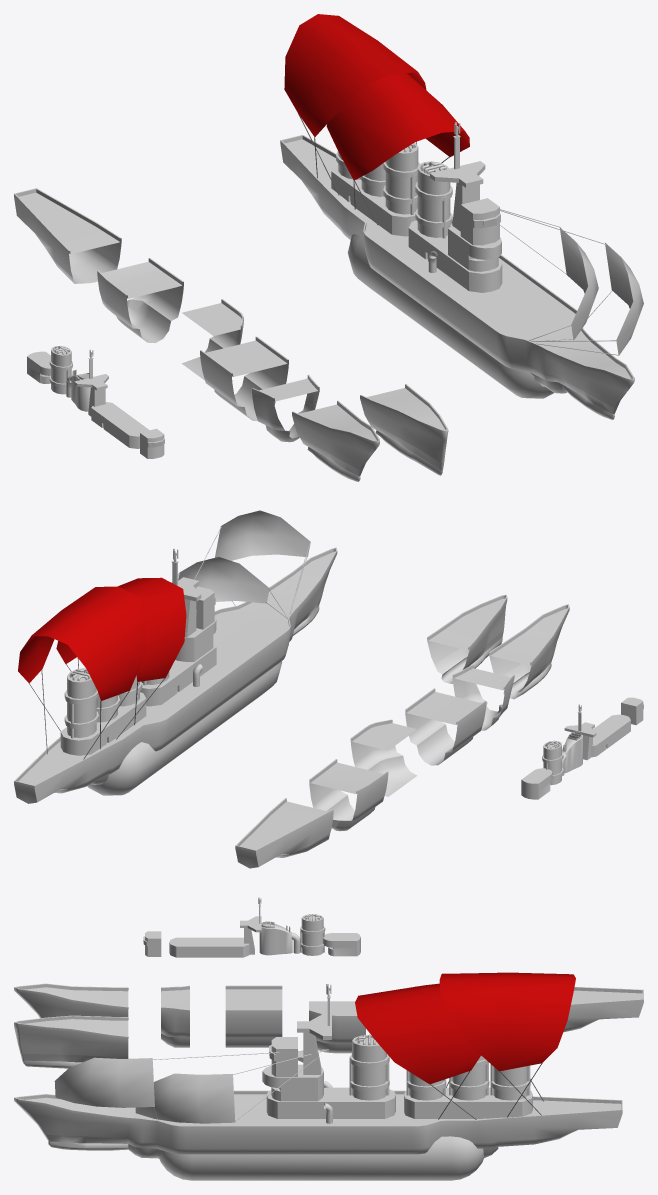
The model's file is navy_modular_ships.FBX.
3 renders of one model, top to bottom at view 1: azimuth 30°, elevation 25°; view 2: azimuth 150°, elevation 25°; view 3: azimuth 270°, elevation 25°, orthographic. The views are drawn at different scales.
Parts seen in each view (by area): view 1: navy_cruzer_1, Navy_crusier, navy_housing_1 (×2), navy_stern_1, navy_hull_stern_1, navy_bow_2, navy_bow_1, navy_hull_middle_1, navy_bow_hull_1, navy_hull_widening_1, Plane002, Plane001 (+4 smaller); view 2: navy_cruzer_1, Navy_crusier, navy_housing_1 (×2), navy_stern_1, navy_bow_2, navy_hull_middle_1, navy_bow_1, navy_hull_stern_1, Plane001, navy_hull_widening_1, Plane002, navy_bow_hull_1 (+4 smaller); view 3: navy_cruzer_1, Navy_crusier, navy_housing_1 (×2), navy_bow_2, Plane001, Plane002, navy_hull_middle_1, navy_bow_1, navy_stern_1, navy_hull_widening_1, navy_bow_hull_1, navy_stack_1 (+4 smaller).
Boxes of the visible parts, x1,y1,x2,y2 form: navy_cruzer_1: [280, 135, 634, 419]; Navy_crusier: [284, 14, 469, 224]; navy_housing_1 (×2): [91, 122, 502, 448]; navy_stern_1: [14, 188, 121, 283]; navy_hull_stern_1: [97, 258, 183, 342]; navy_bow_2: [360, 384, 448, 475]; navy_bow_1: [292, 400, 379, 481]; navy_hull_middle_1: [200, 336, 288, 420]; navy_bow_hull_1: [252, 374, 319, 442]; navy_hull_widening_1: [181, 299, 243, 380]; Plane002: [559, 227, 598, 340]; Plane001: [605, 243, 643, 355]; navy_cruzer_1: [14, 547, 337, 803]; Navy_crusier: [18, 577, 186, 759]; navy_housing_1 (×2): [60, 548, 630, 757]; navy_stern_1: [235, 798, 333, 868]; navy_bow_2: [427, 594, 507, 683]; navy_hull_middle_1: [405, 688, 486, 765]; navy_bow_1: [489, 604, 569, 699]; navy_hull_stern_1: [309, 759, 388, 831]; Plane001: [215, 510, 310, 560]; navy_hull_widening_1: [350, 719, 417, 796]; Plane002: [178, 557, 269, 603]; navy_bow_hull_1: [452, 664, 514, 730]; navy_cruzer_1: [14, 1090, 622, 1180]; Navy_crusier: [355, 972, 575, 1119]; navy_housing_1 (×2): [169, 937, 532, 1123]; navy_bow_2: [14, 1015, 128, 1068]; Plane001: [54, 1057, 154, 1107]; Plane002: [135, 1073, 235, 1123]; navy_hull_middle_1: [225, 985, 282, 1047]; navy_bow_1: [14, 983, 128, 1018]; navy_stern_1: [563, 987, 643, 1032]; navy_hull_widening_1: [309, 1001, 365, 1053]; navy_bow_hull_1: [161, 985, 189, 1047]; navy_stack_1: [259, 921, 292, 955].
Size of the model in its own units: 1464 by 655 by 1870.
